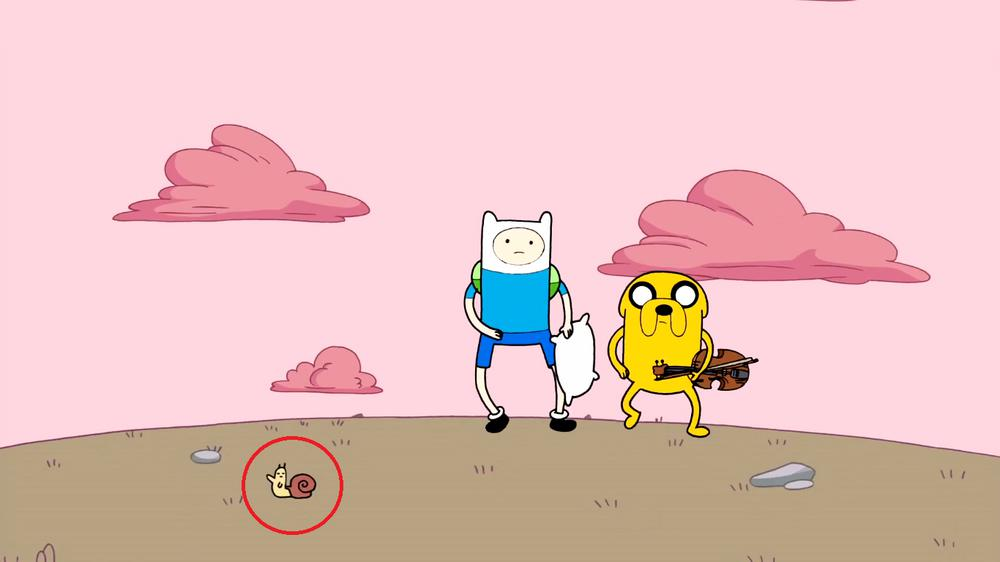snail: (265, 462, 319, 501)
